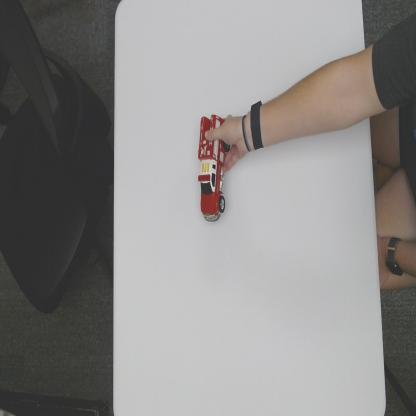Arm: (265, 42, 369, 150)
Firetruck: (197, 114, 231, 224)
